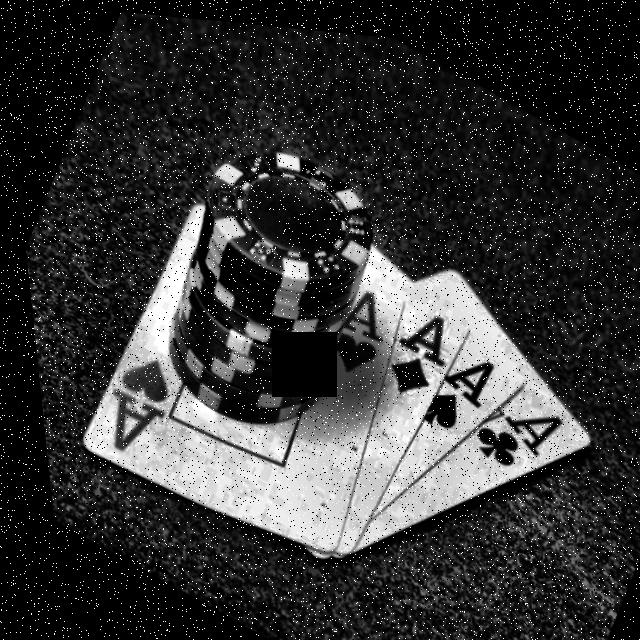Chip: (105, 86, 423, 462)
